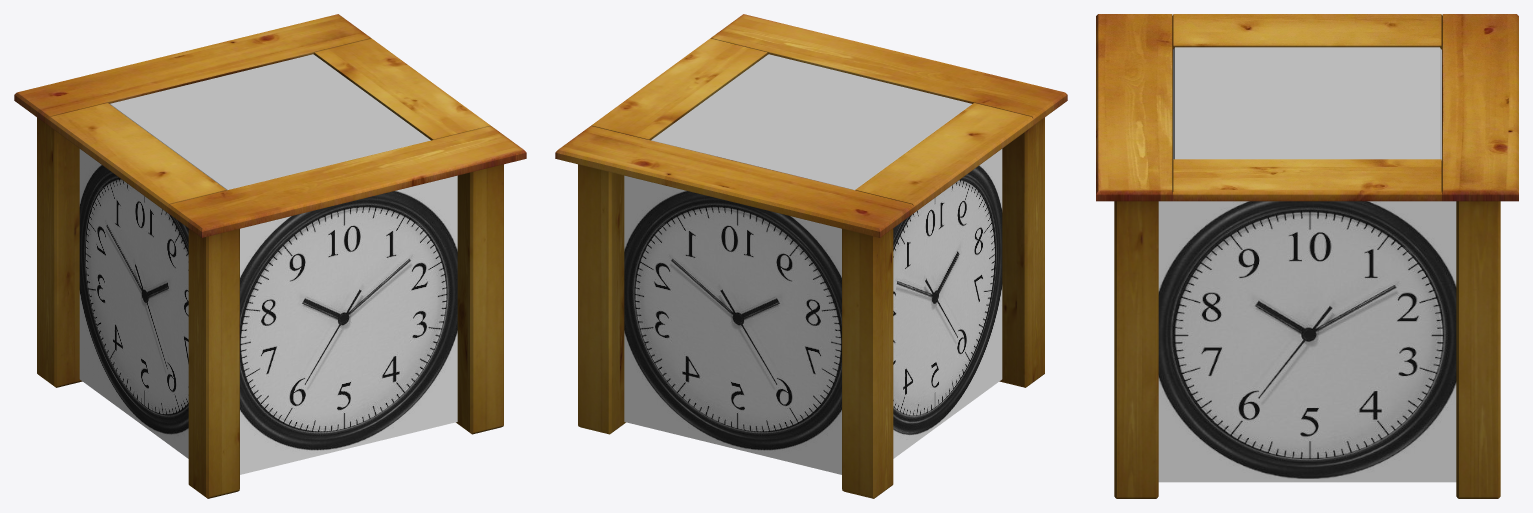
Rendered from table_clock copy.dae.
The picture shows the model from 3 angles, left to right: view 1: azimuth 30°, elevation 25°; view 2: azimuth 150°, elevation 25°; view 3: azimuth 270°, elevation 25°; orthographic projection. The views are drawn at different scales.
Parts seen in each view (by area): view 1: Wood_Table, Cube; view 2: Wood_Table, Cube; view 3: Wood_Table, Cube.
Part boxes in pixels (box(x1,y1,x2,y2)): Wood_Table: box(14, 14, 526, 498); Cube: box(79, 149, 457, 474); Wood_Table: box(555, 14, 1067, 498); Cube: box(624, 149, 1002, 474); Wood_Table: box(1096, 14, 1518, 498); Cube: box(1158, 201, 1456, 482).
Bounding box in the file's own units: 0.9901 × 0.9901 × 0.8162.
3 materials, 2 textured.
